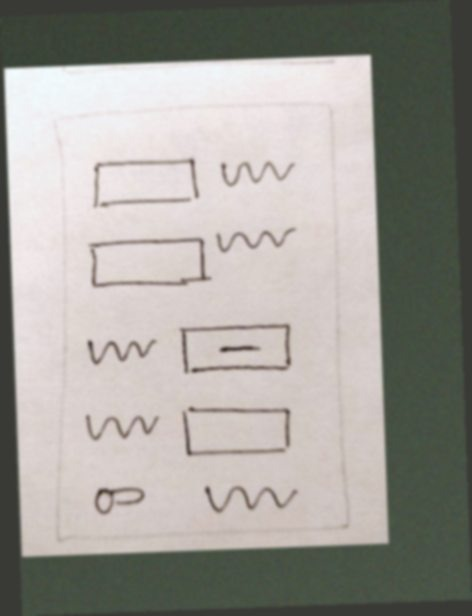button: (173, 316, 299, 380)
switch: (78, 476, 157, 520)
text: (188, 471, 306, 524), (78, 400, 168, 450), (80, 323, 162, 375), (212, 150, 300, 195), (208, 220, 302, 258)
text_input: (175, 393, 296, 471), (83, 230, 212, 295), (85, 151, 202, 215)
